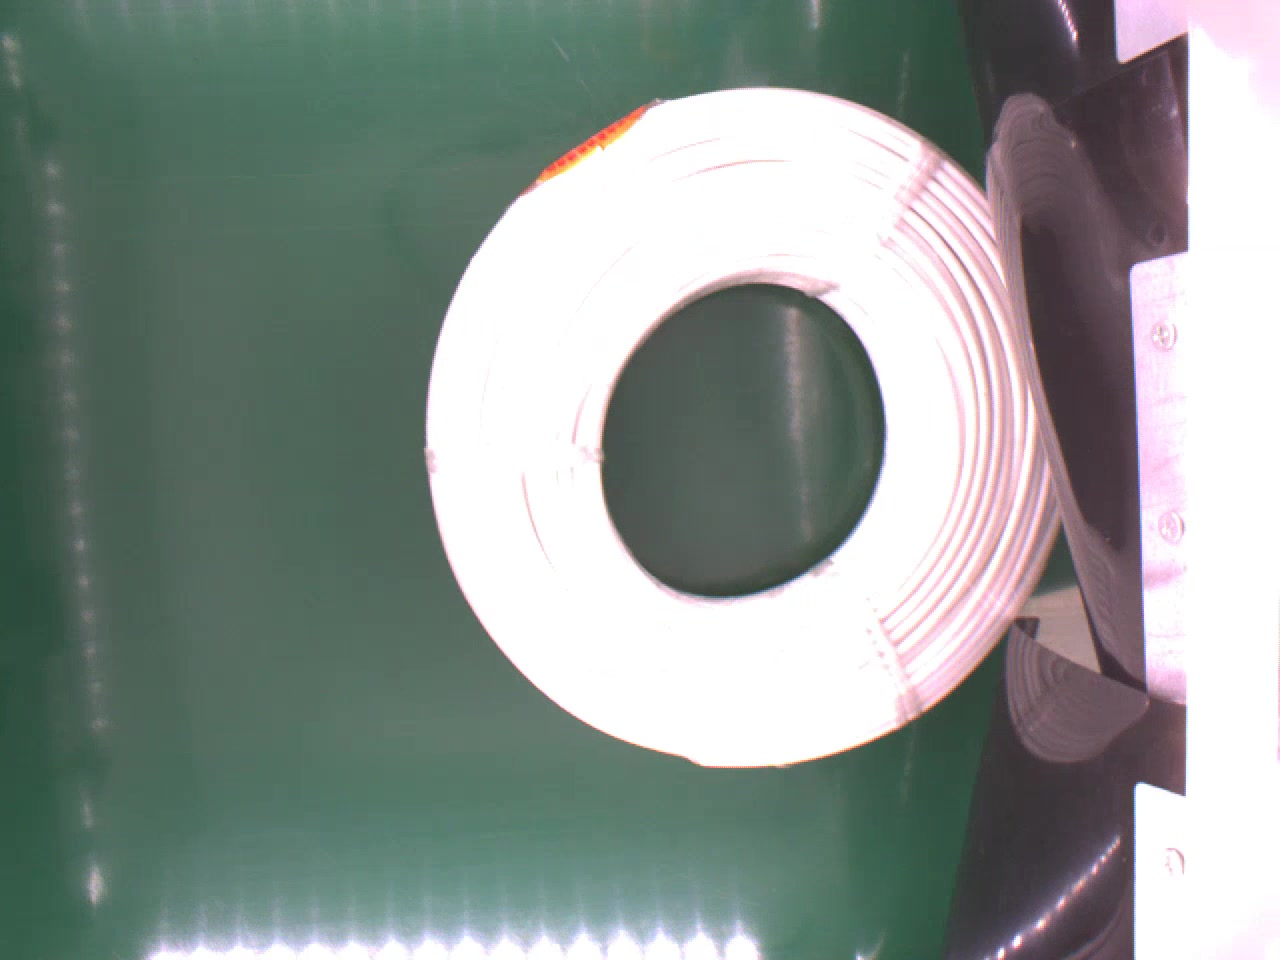white: (420, 80, 1062, 781)
